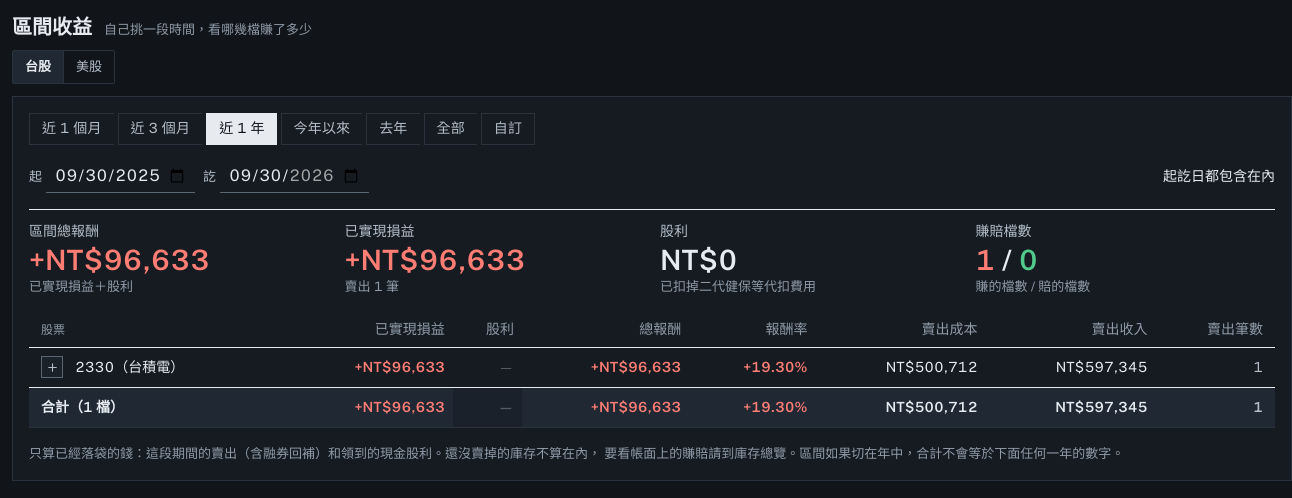
it: RangeSection › 只有台股時不出現台股／美股切換；兩邊都有才出現
Click the button "美股" at (88, 66), box [63,50,114,82]
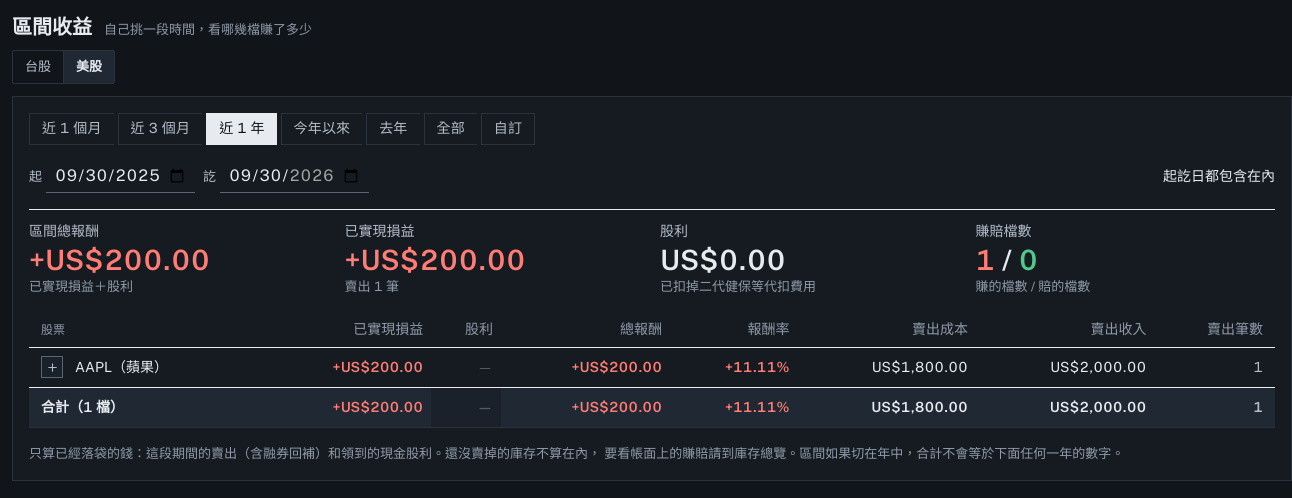
Result: the text "AAPL（蘋果）" is shown at [41,356,168,378]
Result: the text "2330" is gone
